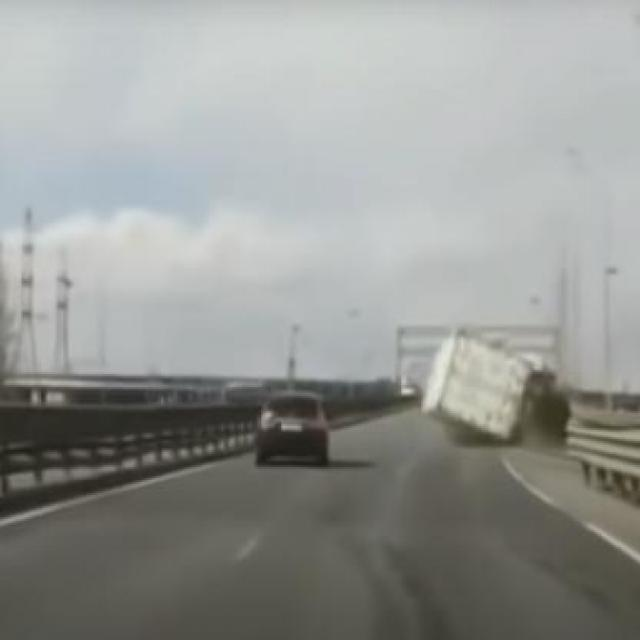accident: (415, 324, 600, 454)
